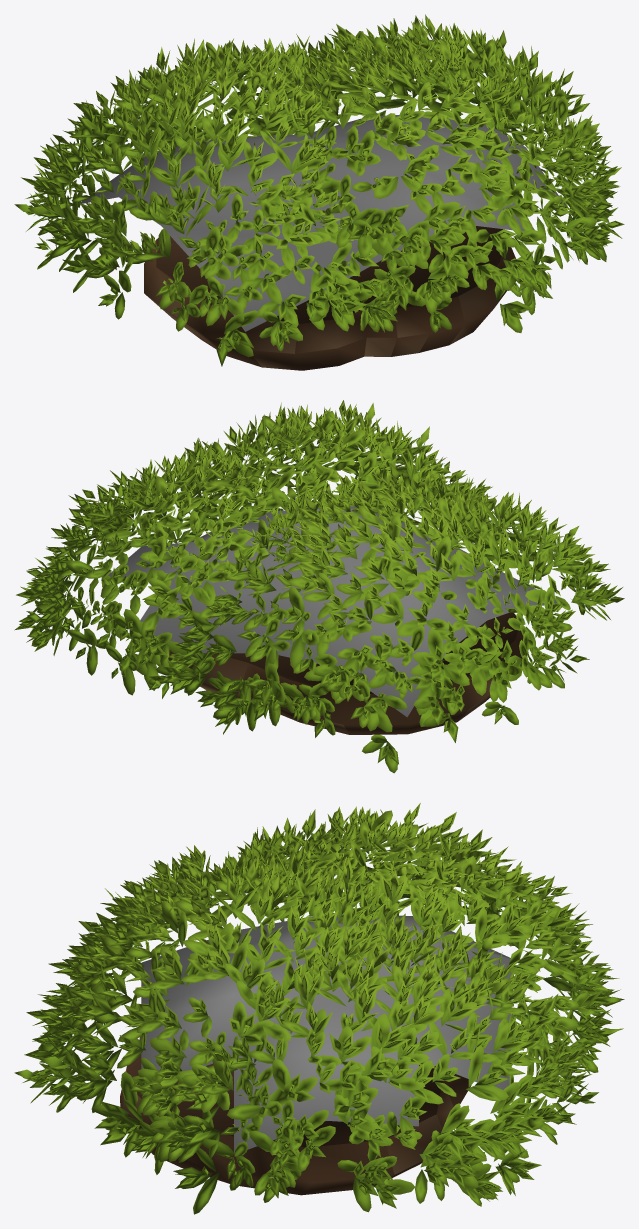
File: moss-tuft-2.glb
3 renders of one model, top to bottom at view 1: azimuth 30°, elevation 25°; view 2: azimuth 150°, elevation 25°; view 3: azimuth 270°, elevation 25°, orthographic. The views are drawn at different scales.
Parts seen in each view (by area): view 1: lod0; view 2: lod0; view 3: lod0.
Part boxes in pixels (x1=…): lod0: x1=14, y1=14, x2=624, y2=370; lod0: x1=14, y1=400, x2=624, y2=773; lod0: x1=14, y1=803, x2=624, y2=1214.
Size of what is drawn, in the model's own units: 1 by 0.4406 by 0.8834.
